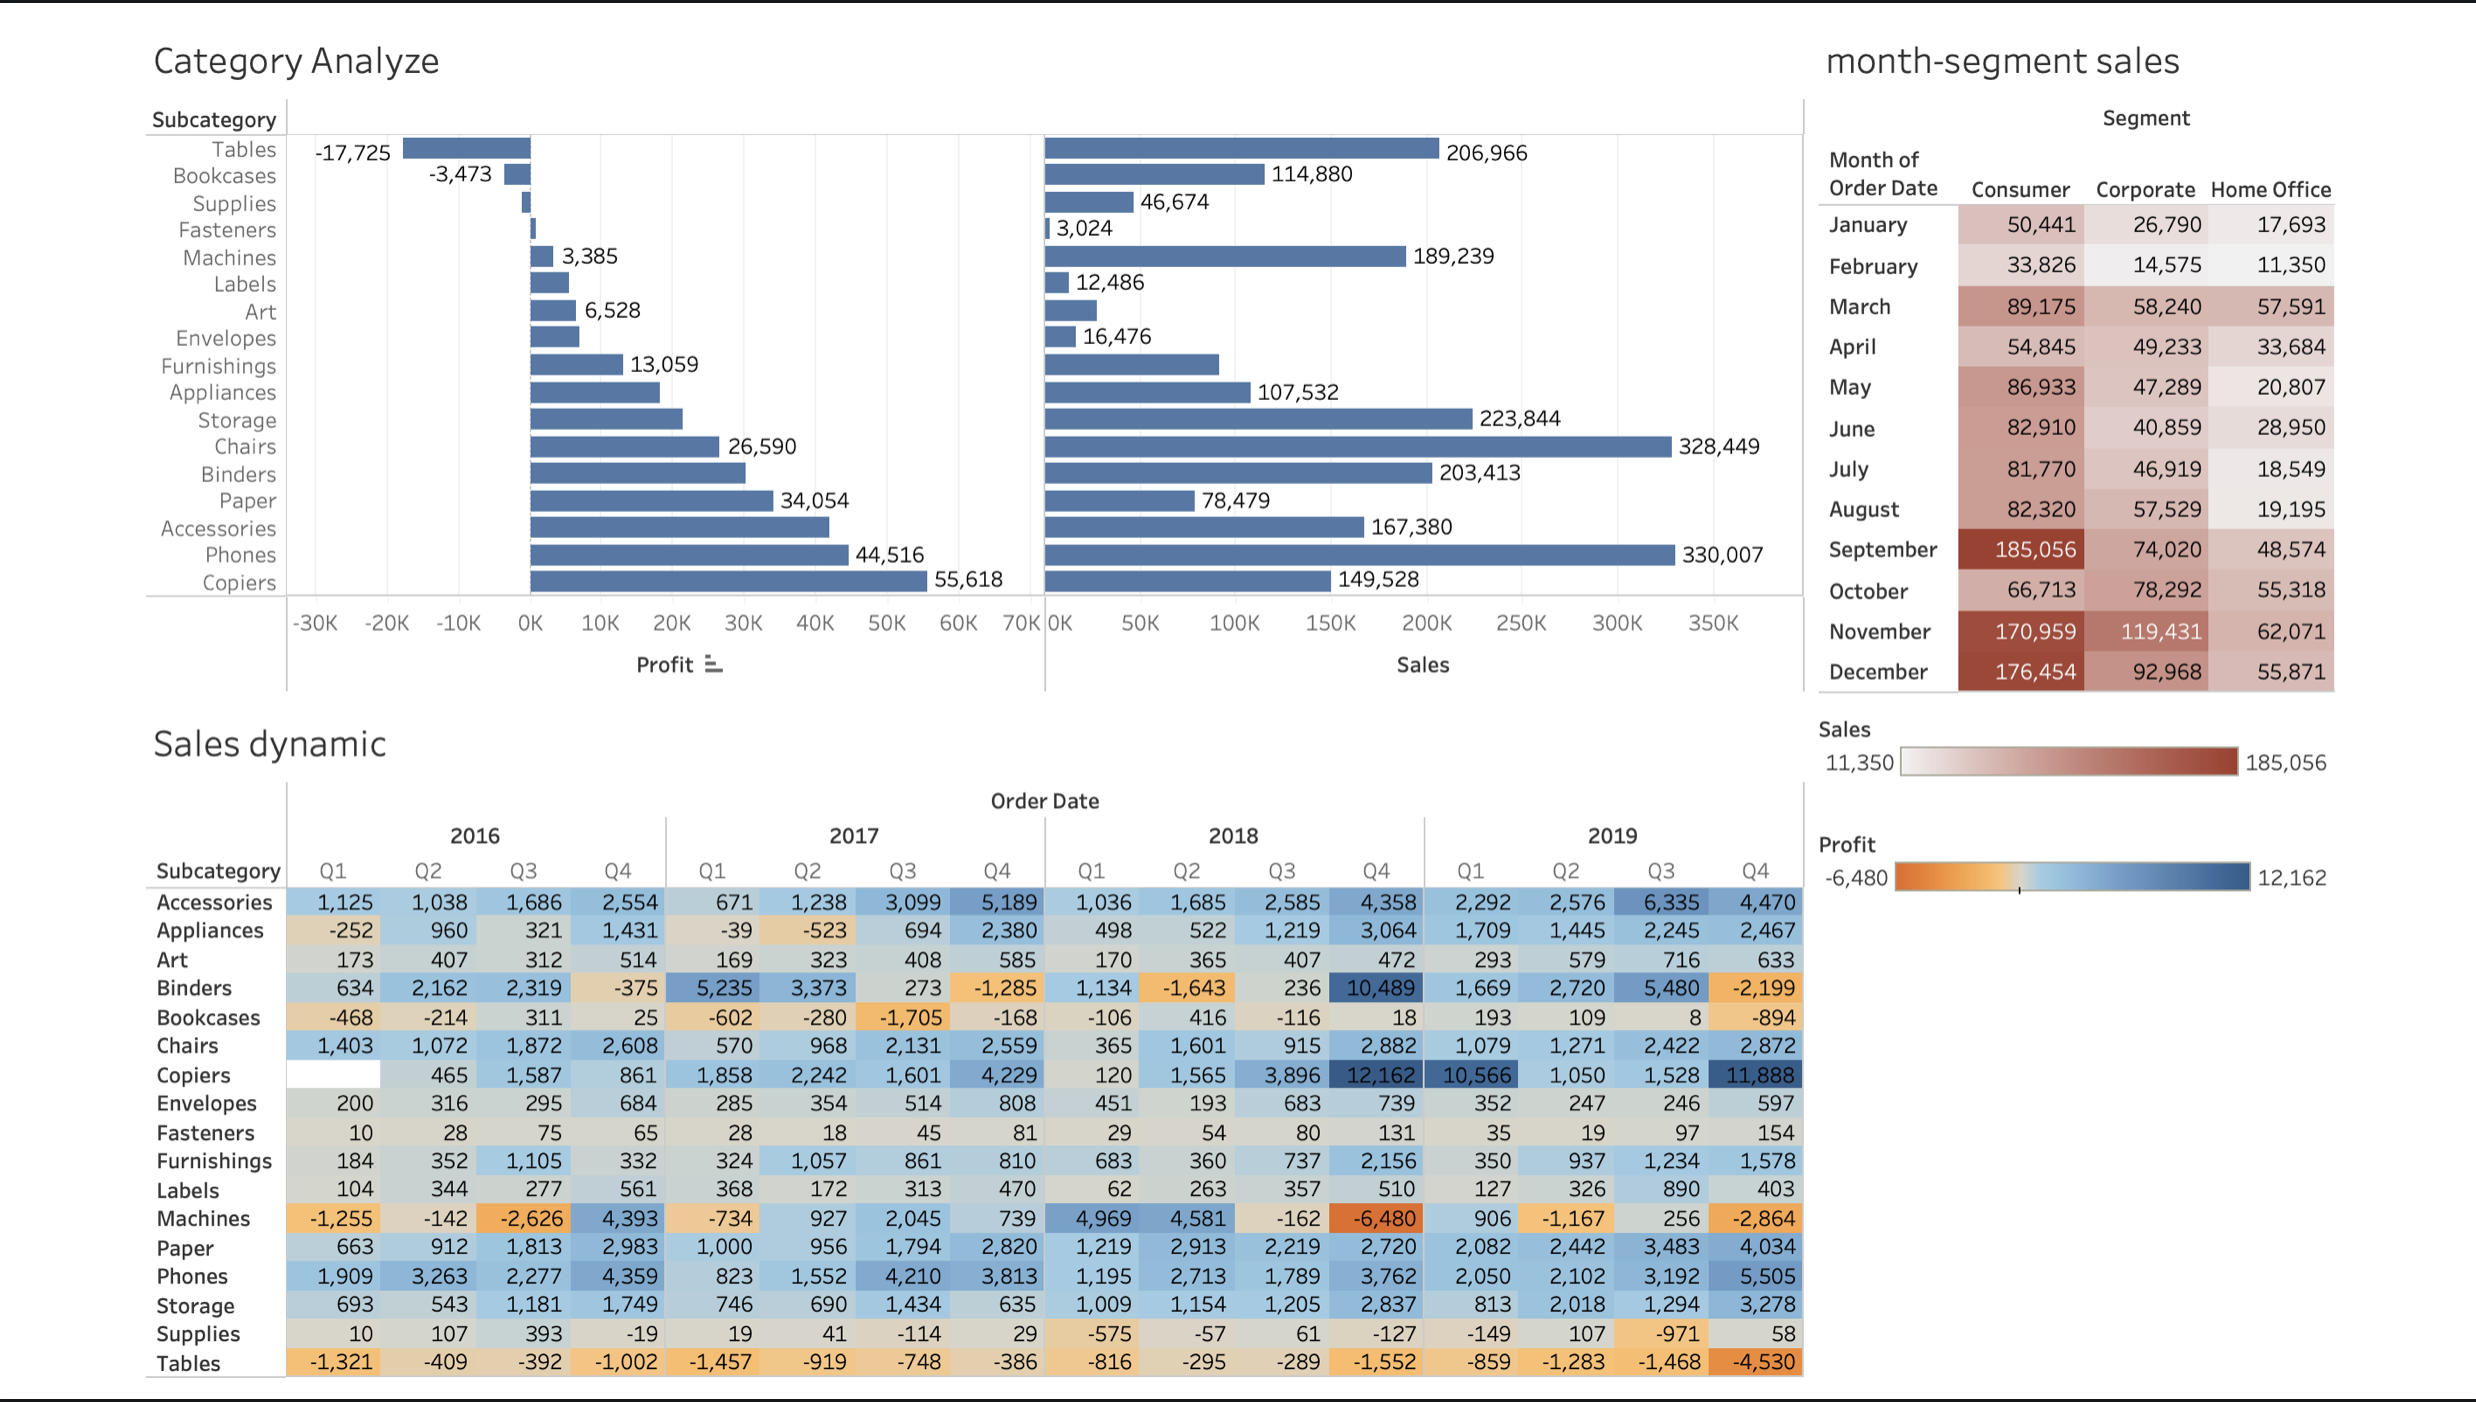

What the dashboard file says about the page in this screenshot:
{"tool":"tableau","page":{"name":"Dashboard 1","canvas":[1000,1000],"units":"permille","ordinal":0},"visuals":[{"type":"worksheet","title":"Category Analyze","mark":"Automatic","rows":["subcategory"],"cols":["profit","sales"],"box":[6.3,10,749.7,490]},{"type":"worksheet","title":"month-segment sales","mark":"Square","rows":["order_date"],"cols":["segment"],"box":[756,10,237.8,490]},{"type":"worksheet","title":"Sales dynamic","mark":"Square","rows":["subcategory"],"cols":["order_date","order_date"],"box":[6.3,500,749.7,490]},{"type":"legend","title":"month-segment sales","param":"[federated.1wwrrzc1j0qrhc0zv3lf81glopxv].[sum:sales:qk]","box":[756,500,237.8,81.4]},{"type":"legend","title":"Sales dynamic","param":"[federated.1wwrrzc1j0qrhc0zv3lf81glopxv].[sum:profit:qk]","box":[756,581.3,237.8,81.4]}]}

Visuals, with their boxes on the dashboard's canvas, which has no fixed pixel size, in thousandths of its width and height (x1, y1, x2, y2). These are canvas units, not pixel positions in the 2476x1402 screenshot, which may show the page scaled, cropped or inside an application window:
"Category Analyze" worksheet: <region>6, 10, 756, 500</region>
"month-segment sales" worksheet (Square marks): <region>756, 10, 994, 500</region>
"Sales dynamic" worksheet (Square marks): <region>6, 500, 756, 990</region>
"month-segment sales" legend: <region>756, 500, 994, 581</region>
"Sales dynamic" legend: <region>756, 581, 994, 663</region>
